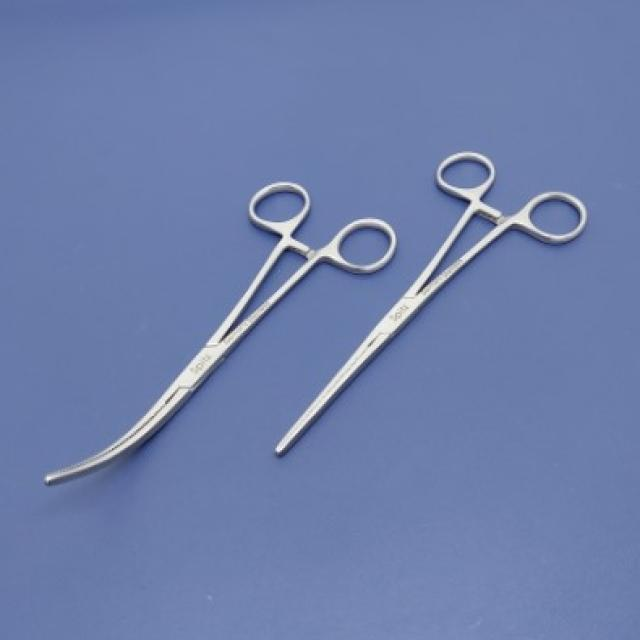Doyel Instestinal Forceps: (36, 149, 392, 488)
